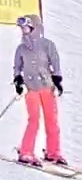skier: (0, 13, 82, 177)
